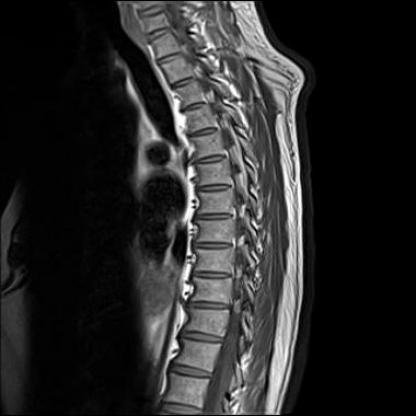Degenerative Disc Diseaserotation: (149, 27, 239, 416)
Osteophytesrotation: (149, 27, 239, 416)
